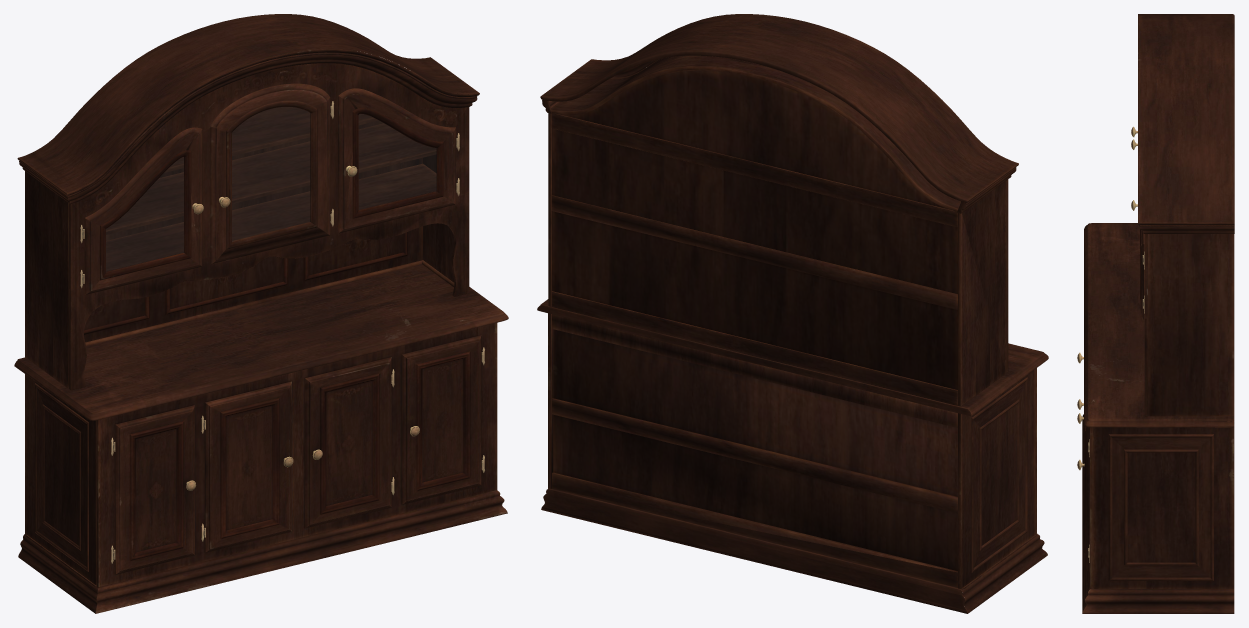
Rendered from vintage_cabinet_01.glb.
3 views of the same model, side by side, from view 1: azimuth 30°, elevation 25°; view 2: azimuth 150°, elevation 25°; view 3: azimuth 270°, elevation 25° (orthographic). The views are drawn at different scales.
Parts seen in each view (by area): view 1: vintage_cabinet_01_body, vintage_cabinet_01_door_03, vintage_cabinet_01_door_01, vintage_cabinet_01_door_04, vintage_cabinet_01_door_07, vintage_cabinet_01_door_06, vintage_cabinet_01_door_02, vintage_cabinet_01_door_05; view 2: vintage_cabinet_01_body; view 3: vintage_cabinet_01_body, vintage_cabinet_01_door_02, vintage_cabinet_01_door_04.
Boxes of the visible parts, box(x1,y1,x2,y2) form: vintage_cabinet_01_body: box(14, 14, 508, 613); vintage_cabinet_01_door_03: box(210, 83, 332, 264); vintage_cabinet_01_door_01: box(83, 127, 203, 295); vintage_cabinet_01_door_04: box(338, 88, 458, 233); vintage_cabinet_01_door_07: box(304, 357, 392, 528); vintage_cabinet_01_door_06: box(204, 381, 293, 552); vintage_cabinet_01_door_02: box(401, 335, 483, 504); vintage_cabinet_01_door_05: box(113, 405, 195, 574); vintage_cabinet_01_body: box(537, 14, 1048, 613); vintage_cabinet_01_body: box(1082, 14, 1234, 613); vintage_cabinet_01_door_02: box(1077, 426, 1089, 572); vintage_cabinet_01_door_04: box(1131, 200, 1144, 319).
Size of the model in its own units: 2.02 by 2.23 by 0.6698.
3 materials, 2 textured.
